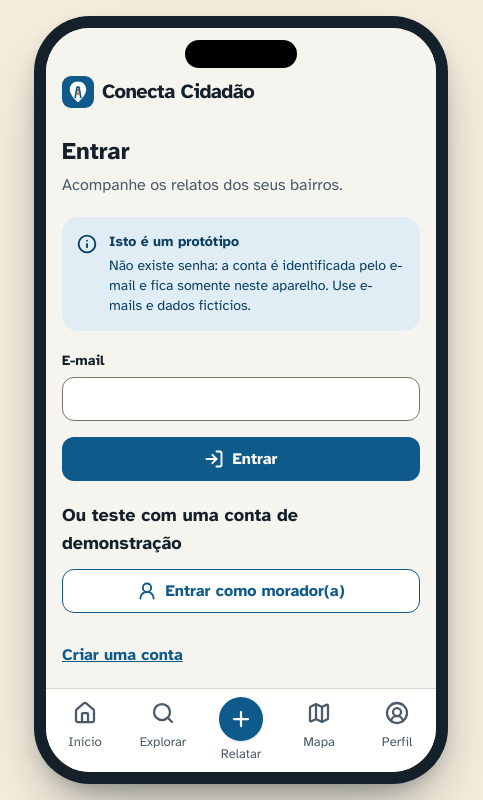
Test: login › e-mail inexistente mostra orientação; e-mail inválido é barrado antes
The width and height of the screenshot is (483, 800).
Type "sem-arroba" into the field labelled "E-mail" at (241, 399), box [62,377,420,421]
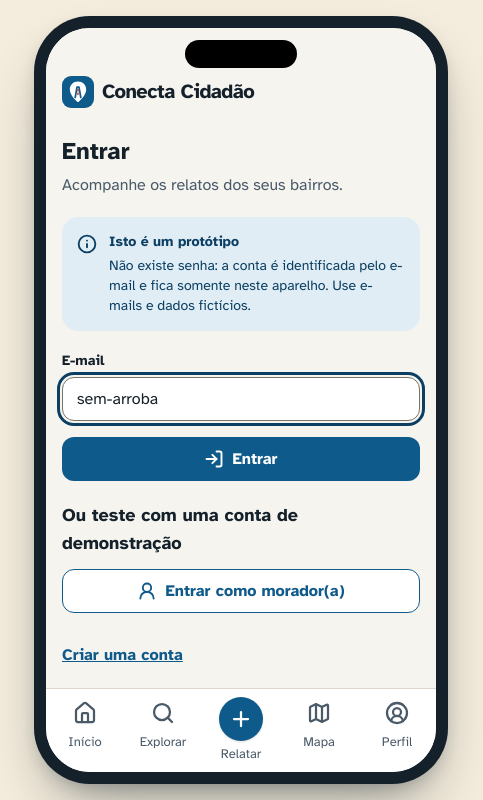
Click the button "Entrar" at (241, 459), box [62,437,420,481]
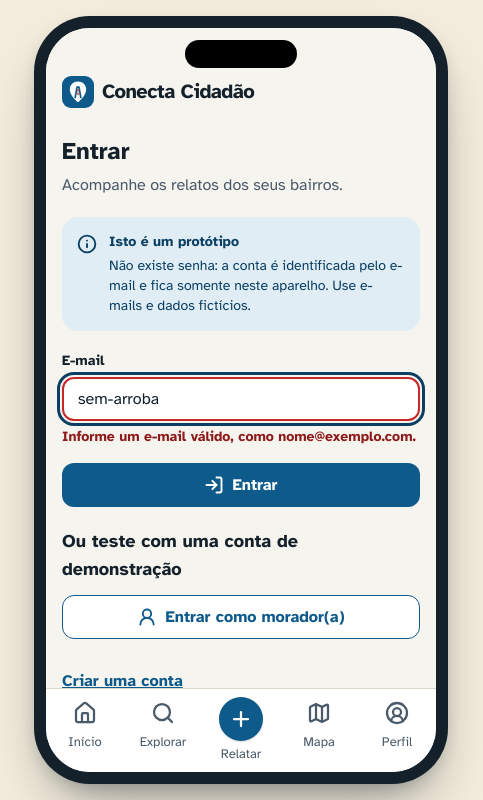
expect the text "Informe um e-mail válido, como nome@exemplo.com." is shown: met, box [62,427,420,447]
Replace the text in the field labelled "E-mail" with "ninguem@exemplo.com" at (241, 399), box [62,377,420,421]
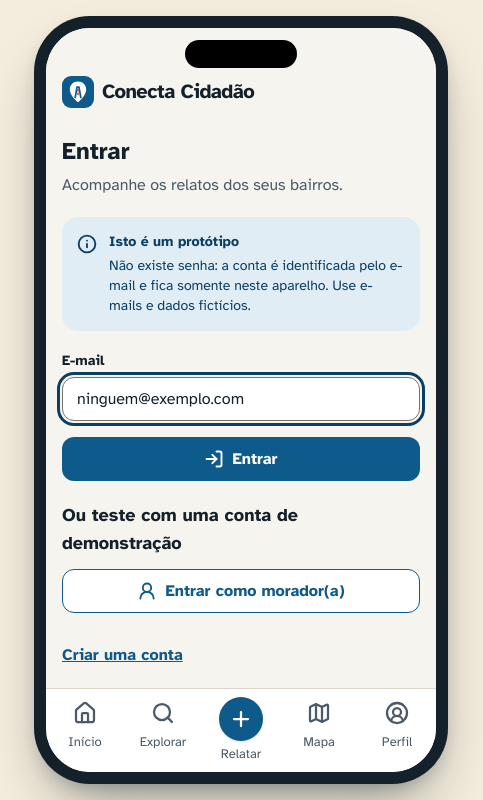
Click the button "Entrar" at (241, 459), box [62,437,420,481]
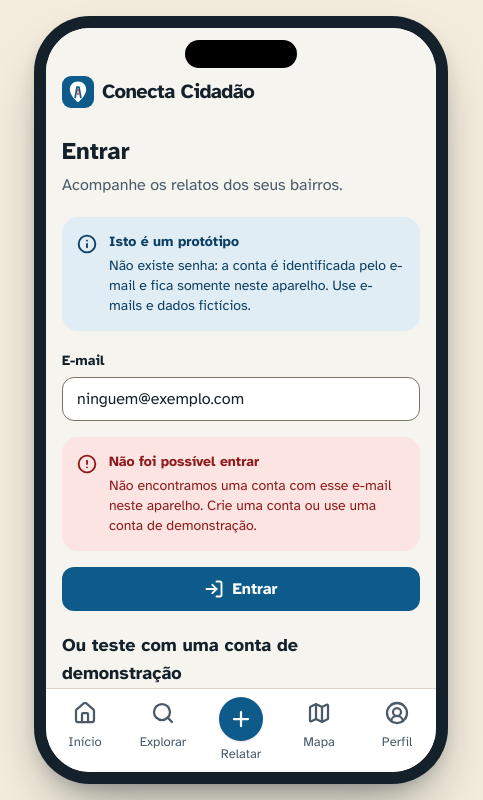
expect the text "Não encontramos uma conta" is shown: met, box [109,477,391,534]
